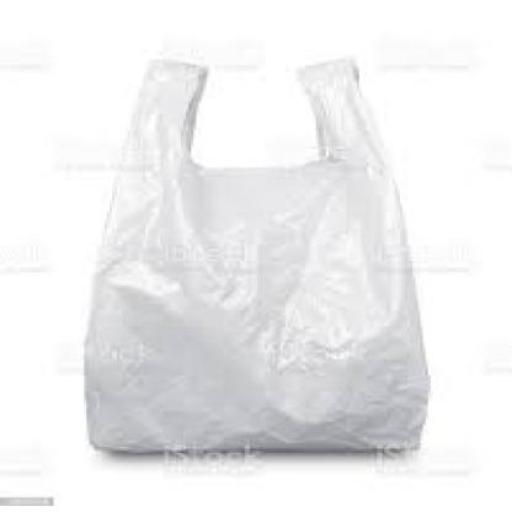plastic: (84, 57, 426, 453)
